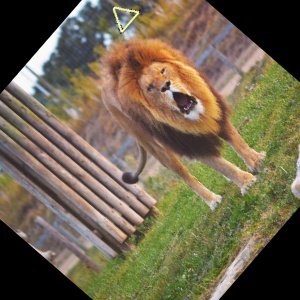triangle: (109, 4, 141, 34)
